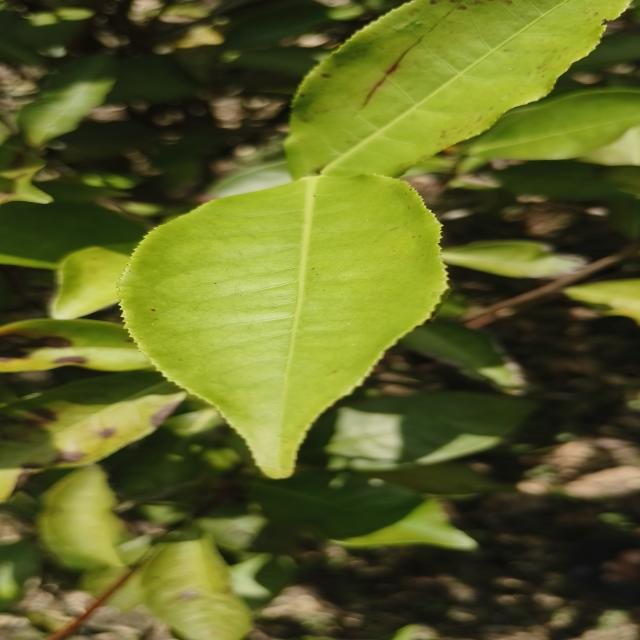Leaf: (119, 175, 446, 478), (285, 0, 628, 179), (300, 391, 534, 471), (0, 371, 186, 469), (250, 472, 476, 550), (467, 88, 640, 161), (141, 534, 252, 640), (105, 408, 222, 501), (0, 202, 145, 269), (399, 319, 523, 392), (38, 465, 124, 570), (18, 55, 115, 147), (0, 319, 151, 372), (48, 243, 136, 319), (442, 240, 586, 277), (230, 553, 294, 608)
